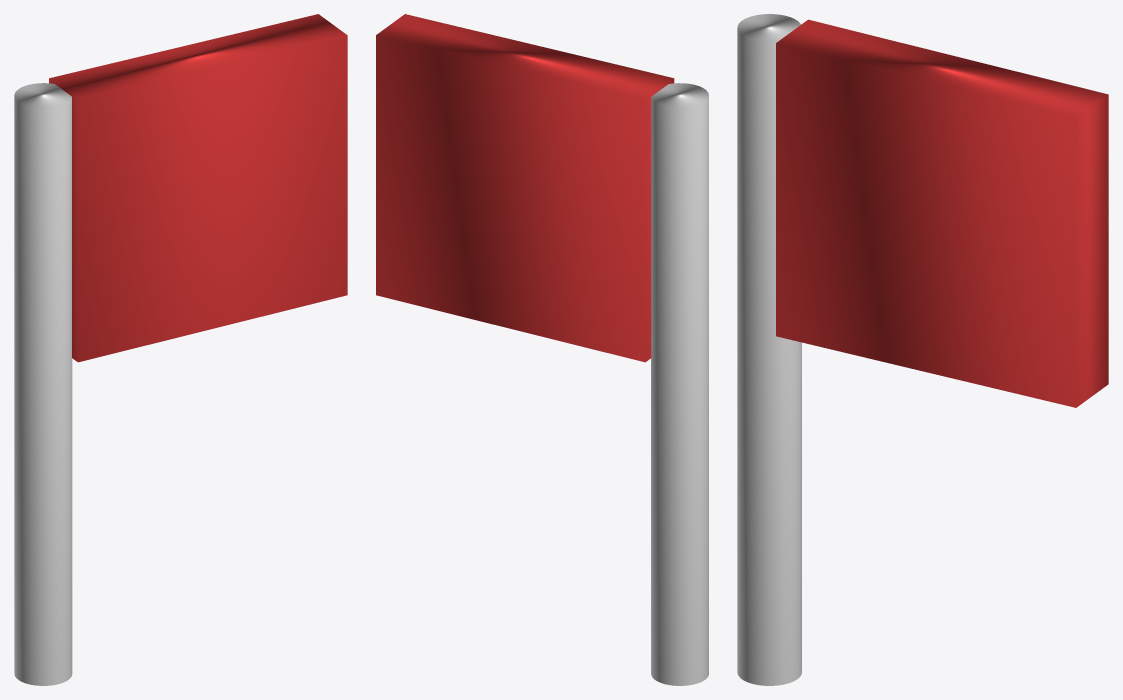
Rendered from goal.obj.
3 renders of one model, left to right at view 1: azimuth 30°, elevation 25°; view 2: azimuth 150°, elevation 25°; view 3: azimuth 330°, elevation 25°, orthographic. The views are drawn at different scales.
Parts seen in each view (by area): view 1: 円柱; view 2: 円柱; view 3: 円柱.
Part boxes in pixels (left/top/right/bottom): 円柱: left=14, top=14, right=347, bottom=685; 円柱: left=376, top=14, right=708, bottom=685; 円柱: left=737, top=14, right=1108, bottom=685.
Bounding box in the file's own units: 2.51 × 4.41 × 0.4003.
Materials: 2 (2 with a texture image).
